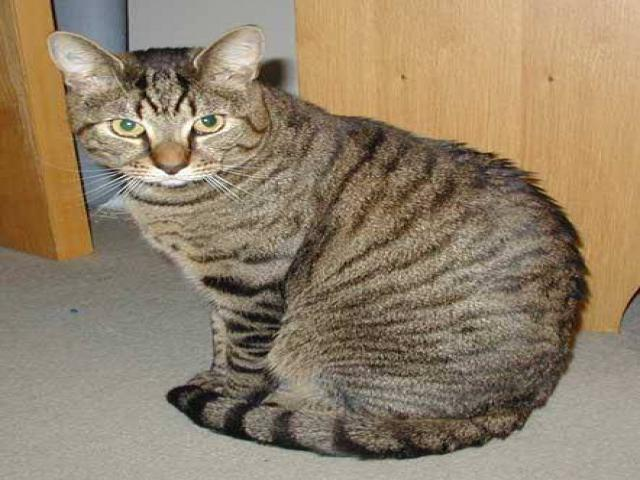cat: (59, 24, 590, 462)
